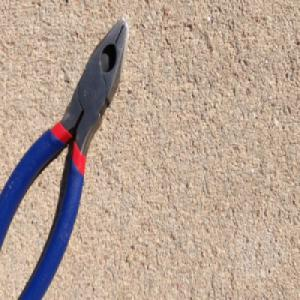Pliers: (0, 15, 130, 300)
